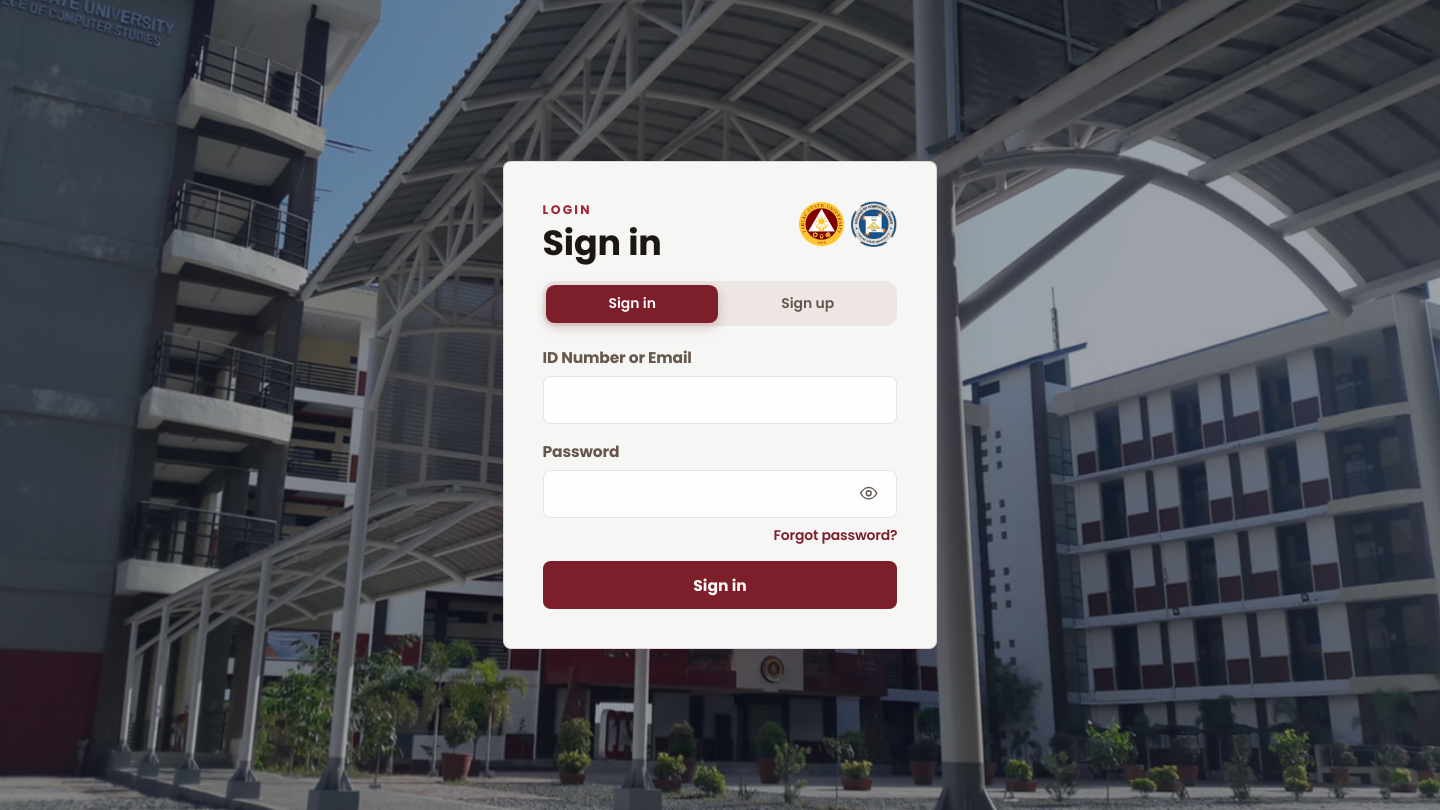
LoginPage › shows the server's reason when the ID number or password is wrong
The width and height of the screenshot is (1440, 810).
Type "202300001" into the field labelled "ID Number or Email". click: [720, 400]
box: x1=542 y1=376 x2=898 y2=424
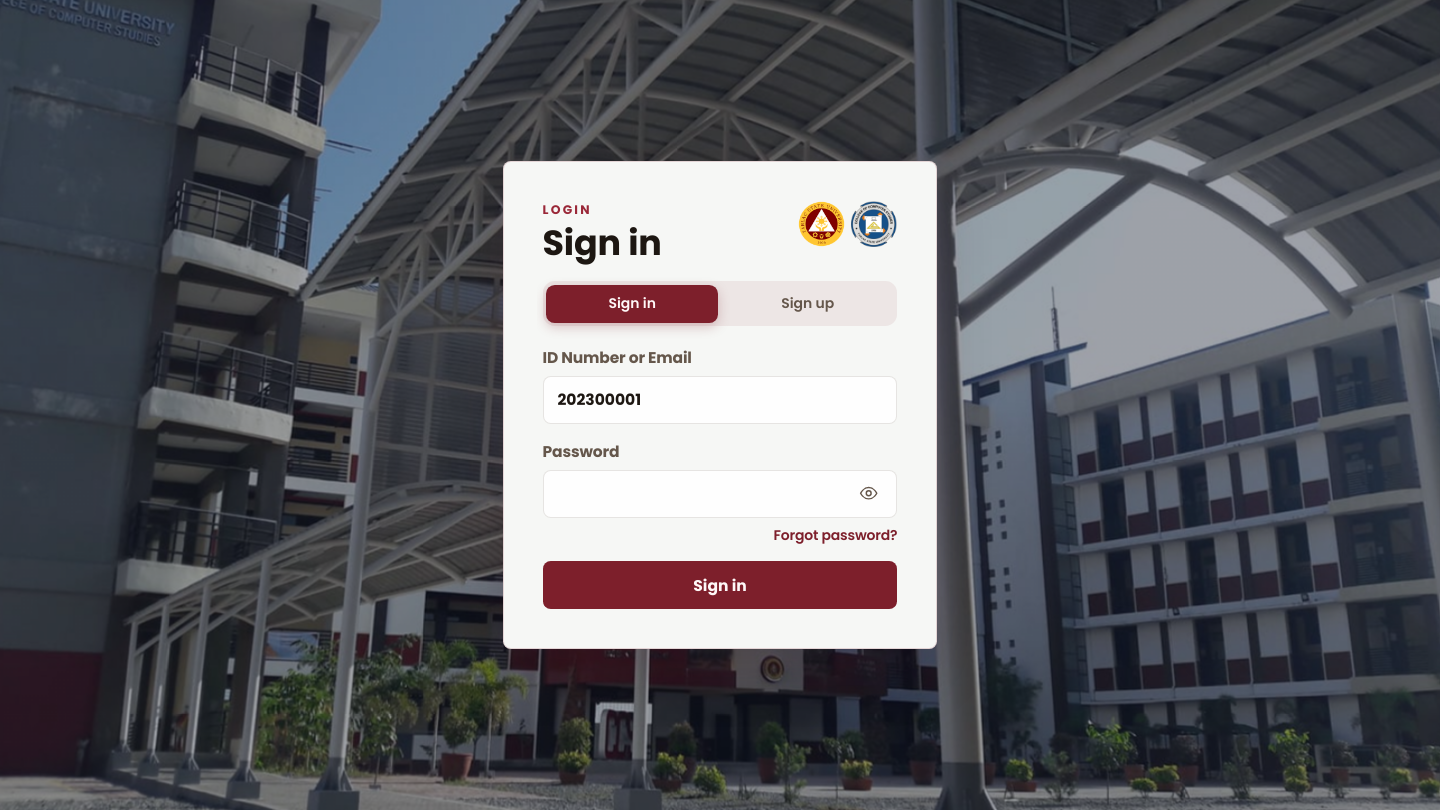
Type "wrong-one" into the password field labelled "Password". click: [720, 494]
box: x1=542 y1=470 x2=898 y2=518
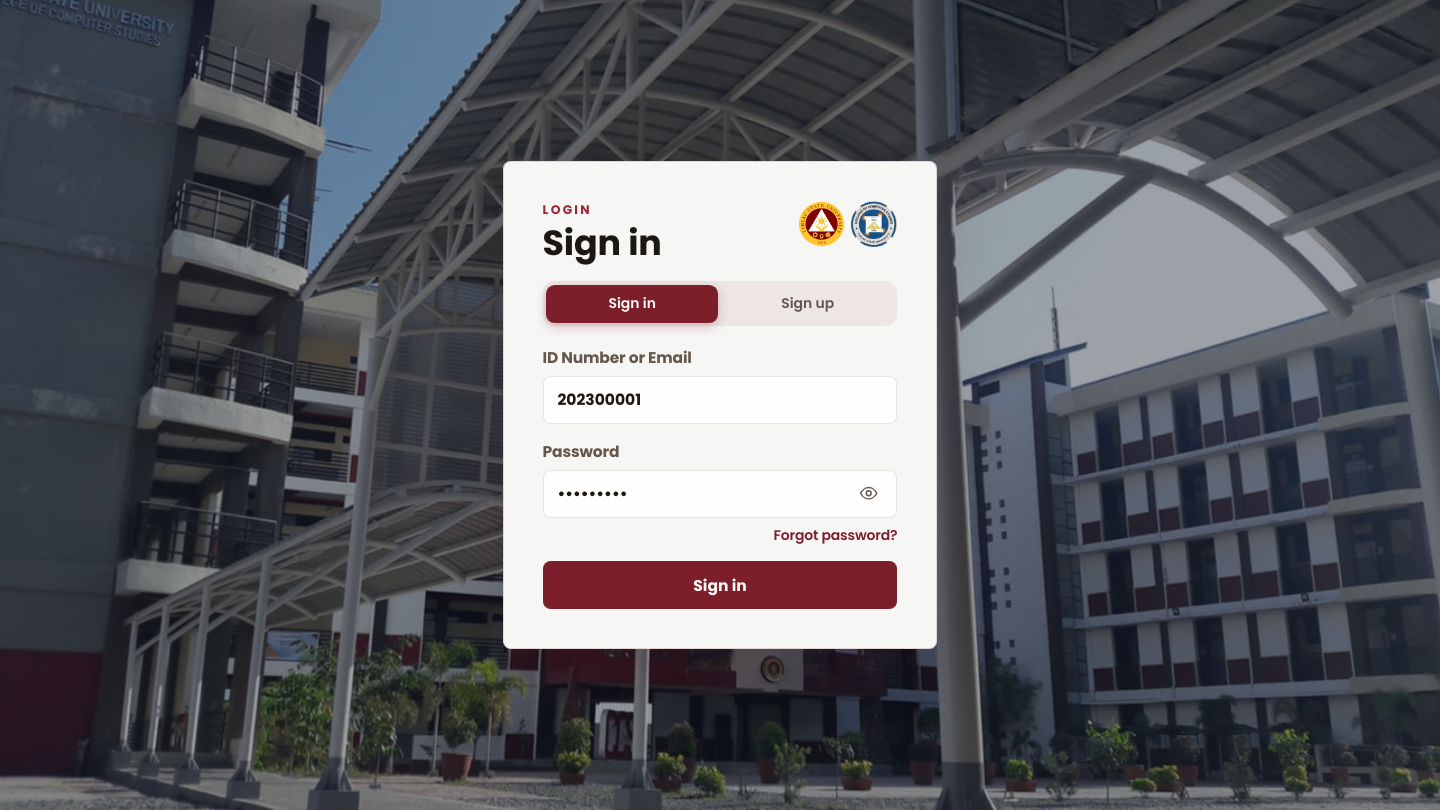
Click the button "Sign in" below "Forgot password?". click: [720, 585]
box: x1=542 y1=561 x2=898 y2=609
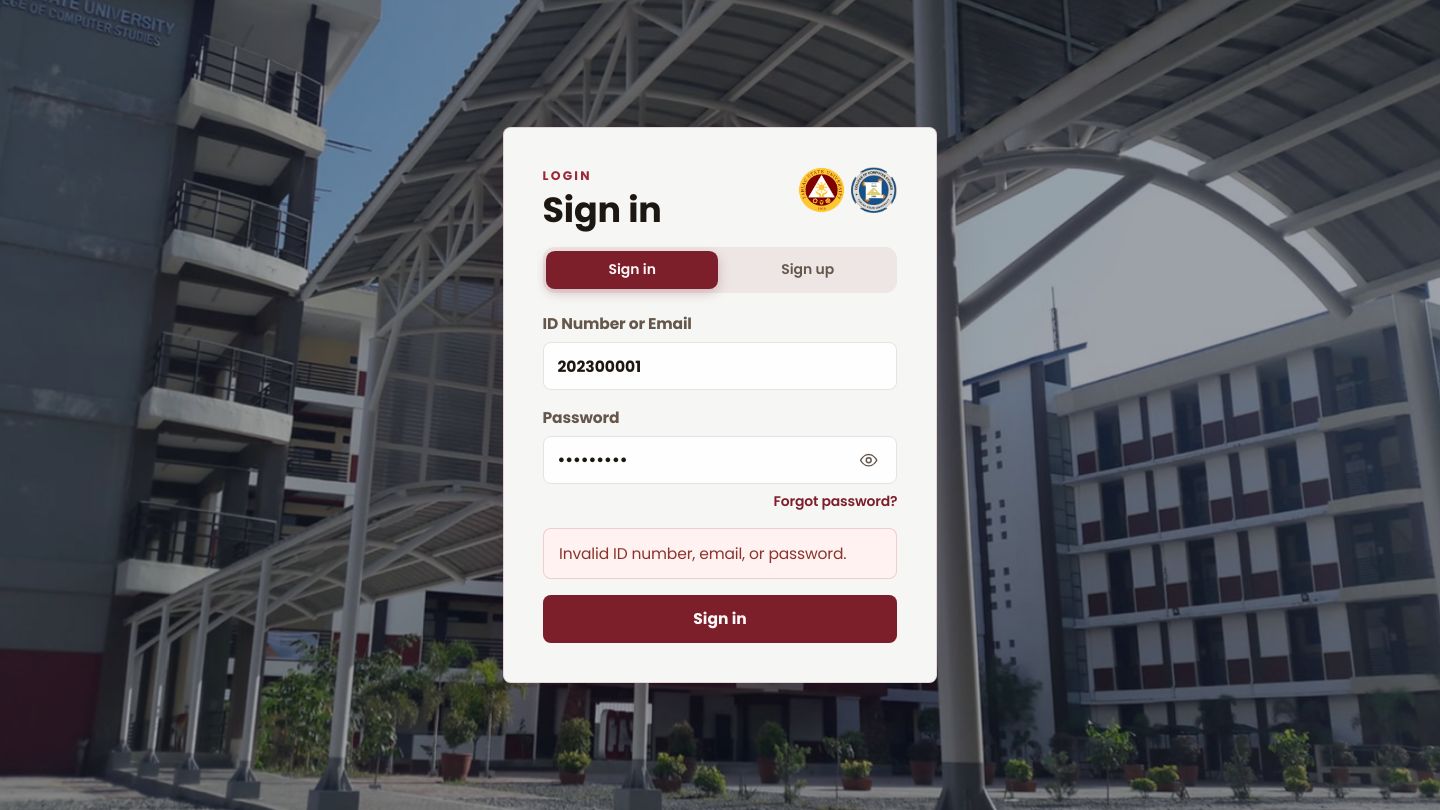
Expected: the message reads "Invalid ID number, email, or password.", x1=559 y1=543 x2=846 y2=564
